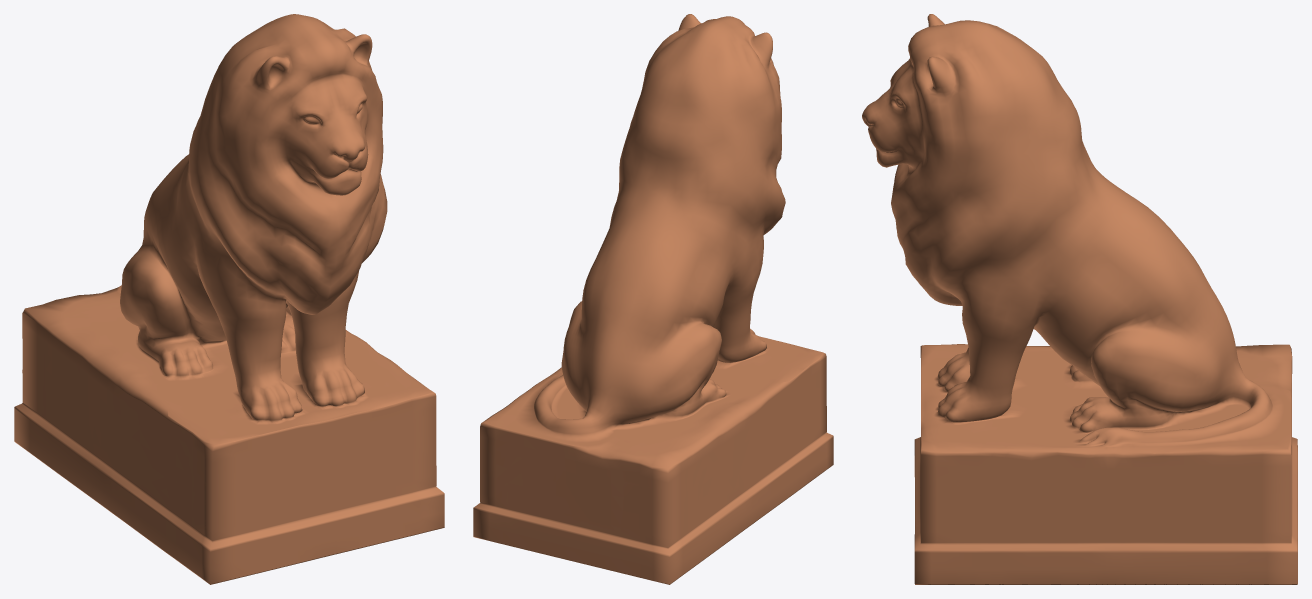
Rendered from leon.glb.
The picture shows the model from 3 angles, left to right: view 1: azimuth 30°, elevation 25°; view 2: azimuth 150°, elevation 25°; view 3: azimuth 270°, elevation 25°; orthographic projection. The views are drawn at different scales.
Visible parts, largest first — view 1: imagetostl_mesh0; view 2: imagetostl_mesh0; view 3: imagetostl_mesh0.
Part boxes in pixels (x1,y1,x2,y2): imagetostl_mesh0: [14, 14, 444, 584]; imagetostl_mesh0: [473, 14, 833, 584]; imagetostl_mesh0: [862, 14, 1297, 584].
Bounding box in the file's own units: 9.45 × 19.9 × 15.54.
